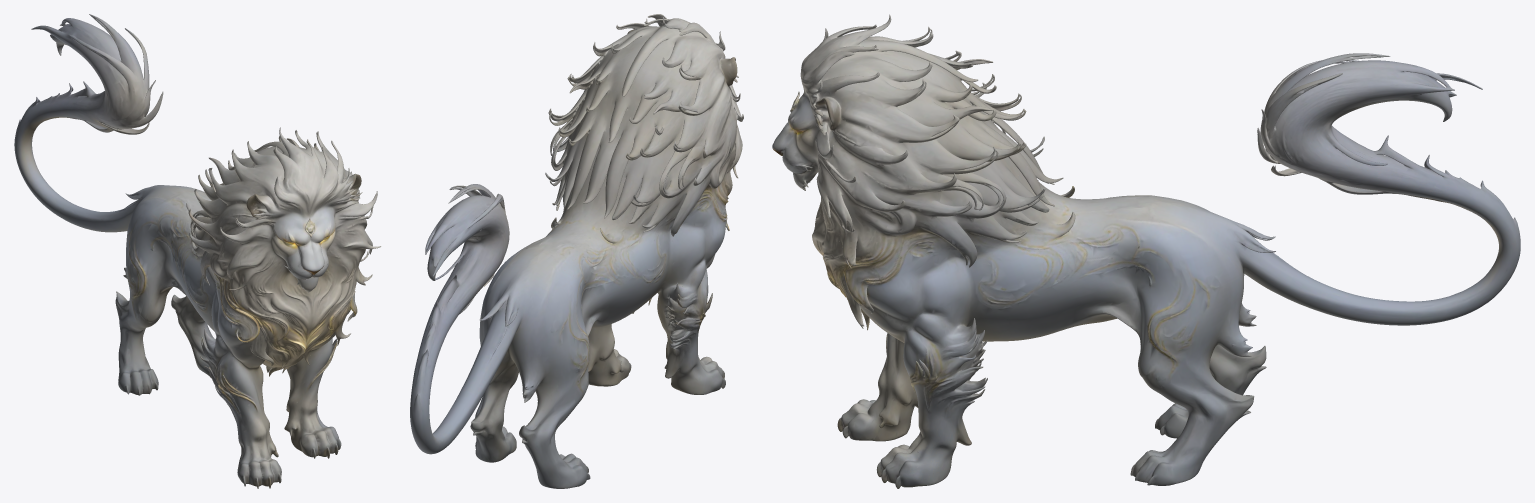
Rendered from bai-ze.glb.
The picture shows the model from 3 angles, left to right: view 1: azimuth 30°, elevation 25°; view 2: azimuth 150°, elevation 25°; view 3: azimuth 270°, elevation 25°; orthographic projection. The views are drawn at different scales.
Visible parts, largest first — view 1: node_0; view 2: node_0; view 3: node_0.
Part boxes in pixels (x1,y1,x2,y2): node_0: [14, 14, 381, 488]; node_0: [410, 14, 743, 488]; node_0: [772, 14, 1520, 488].
Size of the model in its own units: 0.3374 by 0.7346 by 1.14.
Materials: 1 (1 with a texture image).
